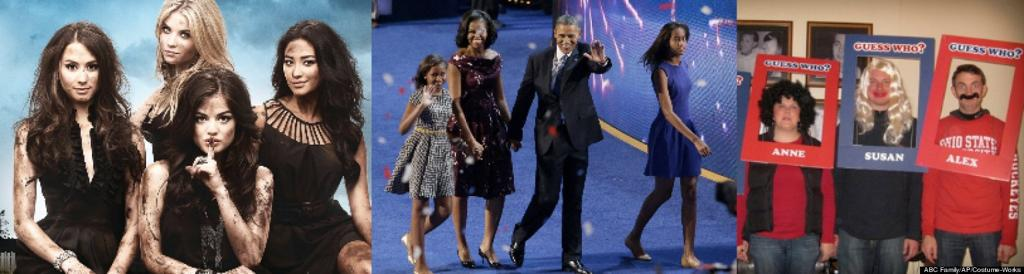face: (194, 99, 237, 153), (59, 49, 103, 101), (283, 47, 322, 96), (160, 15, 198, 62), (867, 73, 897, 104), (774, 98, 801, 128), (956, 78, 982, 109), (835, 38, 856, 64), (557, 27, 577, 53), (468, 22, 488, 47), (428, 69, 447, 90), (670, 30, 686, 54), (765, 39, 777, 56), (741, 37, 753, 54)
